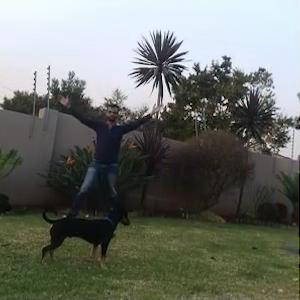takeoff: (64, 93, 172, 217)
